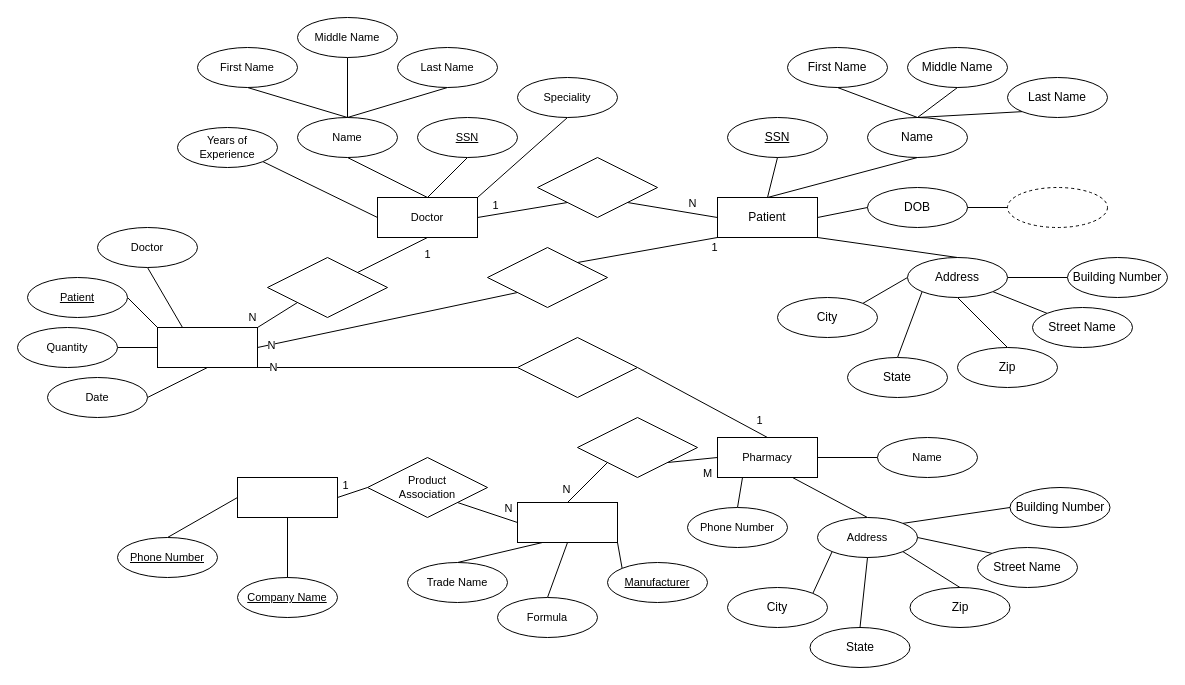
This 1185x685 diagram has some shape labels left out. The shapes that lost their labels are listed below. From the top down, each one's centre as x and y in pixels, then its label:
At point (597, 187): "Primary Care Physician".
At point (1057, 207): "Age".
At point (327, 287): "Prescribes".
At point (547, 277): "Associated with".
At point (207, 347): "Prescription".
At point (577, 367): "Fulfills".
At point (637, 447): "Availability/ Pricing".
At point (287, 497): "Pharmaceutical Company".
At point (567, 522): "Drug".
